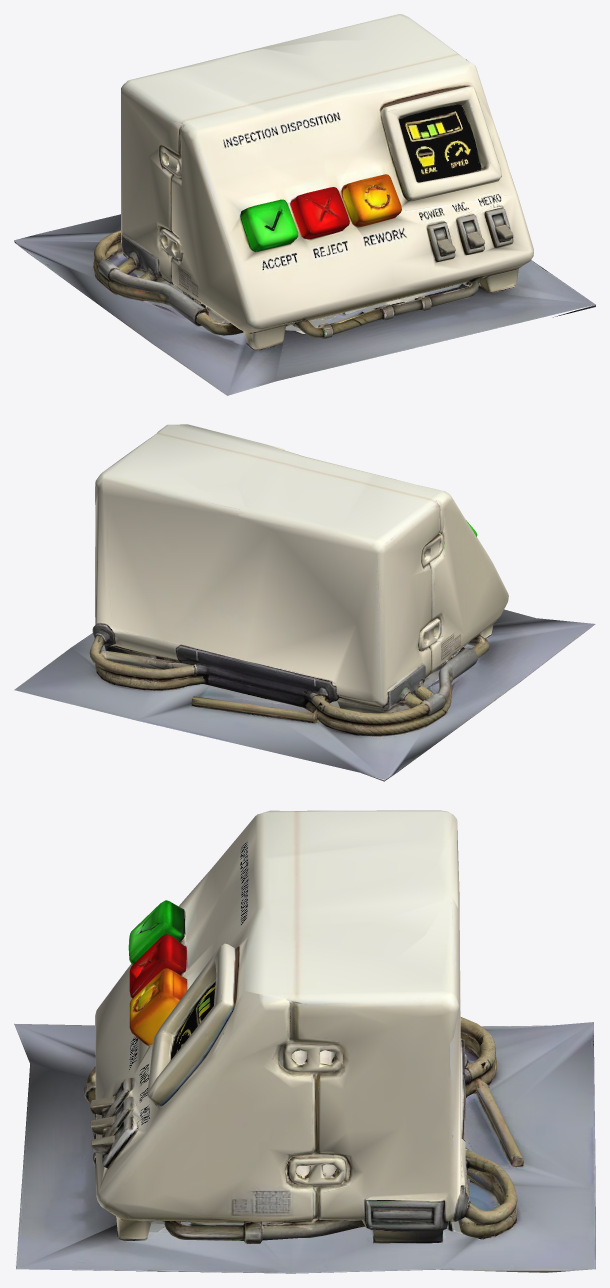
Rendered from Inspection.glb.
3 renders of one model, top to bottom at view 1: azimuth 30°, elevation 25°; view 2: azimuth 150°, elevation 25°; view 3: azimuth 270°, elevation 25°, orthographic. The views are drawn at different scales.
Parts seen in each view (by area): view 1: Mesh_0; view 2: Mesh_0; view 3: Mesh_0.
Boxes of the visible parts, left/top/right/bottom form: Mesh_0: left=14, top=14, right=595, bottom=395; Mesh_0: left=14, top=424, right=595, bottom=781; Mesh_0: left=14, top=810, right=595, bottom=1273.
Bounding box in the file's own units: 1.9 × 0.92 × 1.89.
1 material, 1 textured.
